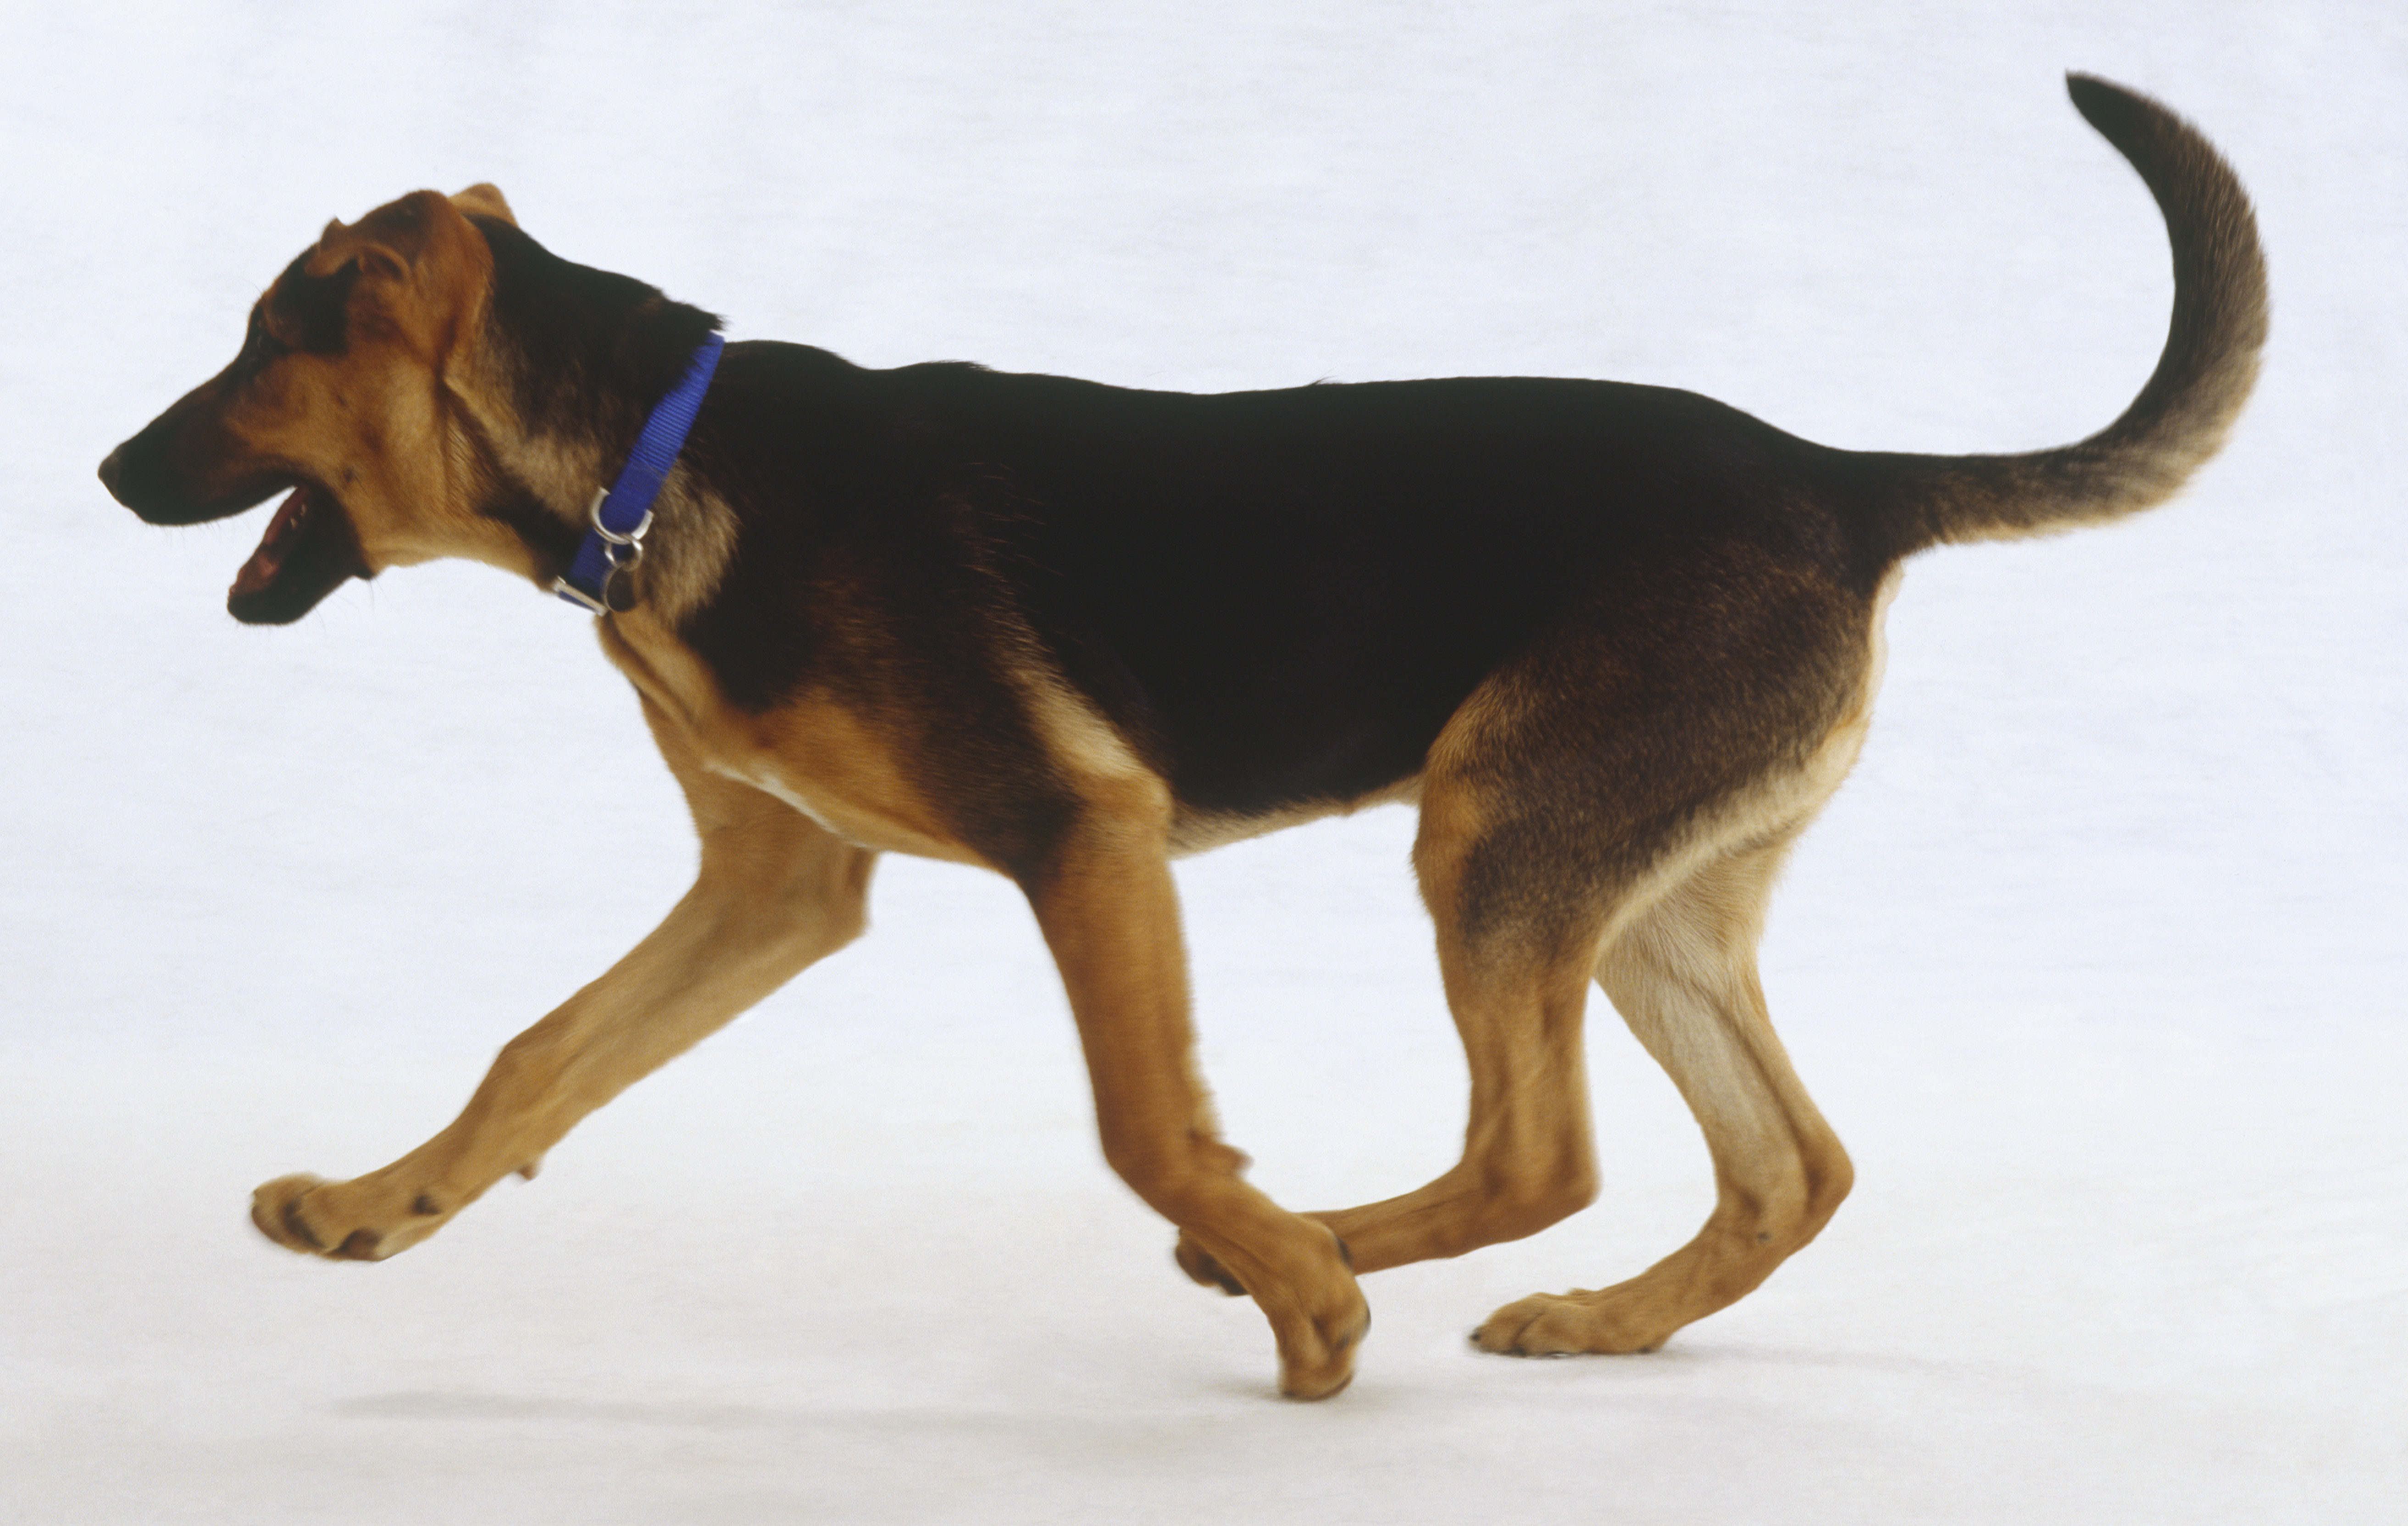tail: (1848, 49, 2313, 578)
